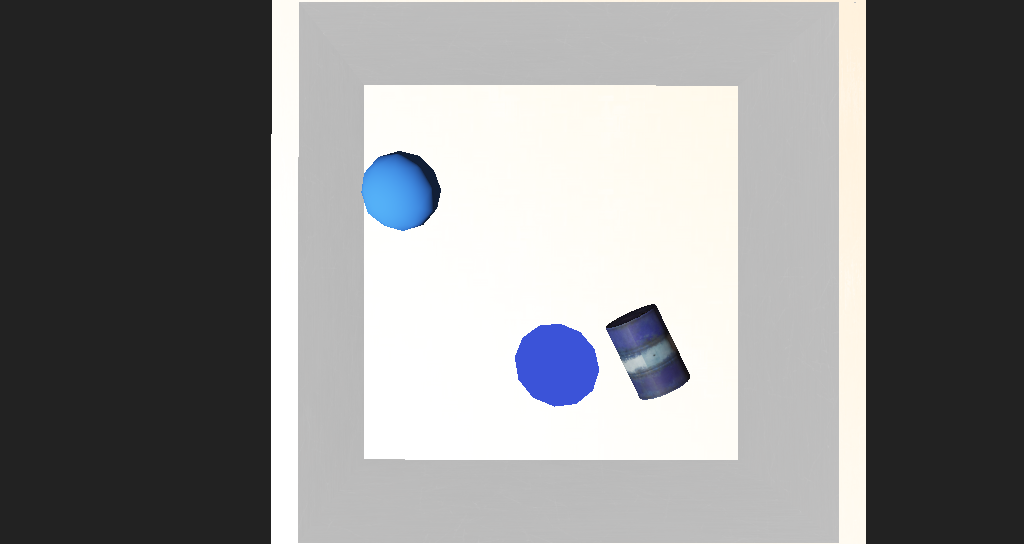cone: (549, 286, 623, 344)
cylinder: (458, 293, 539, 365)
sphere: (350, 203, 418, 246)
